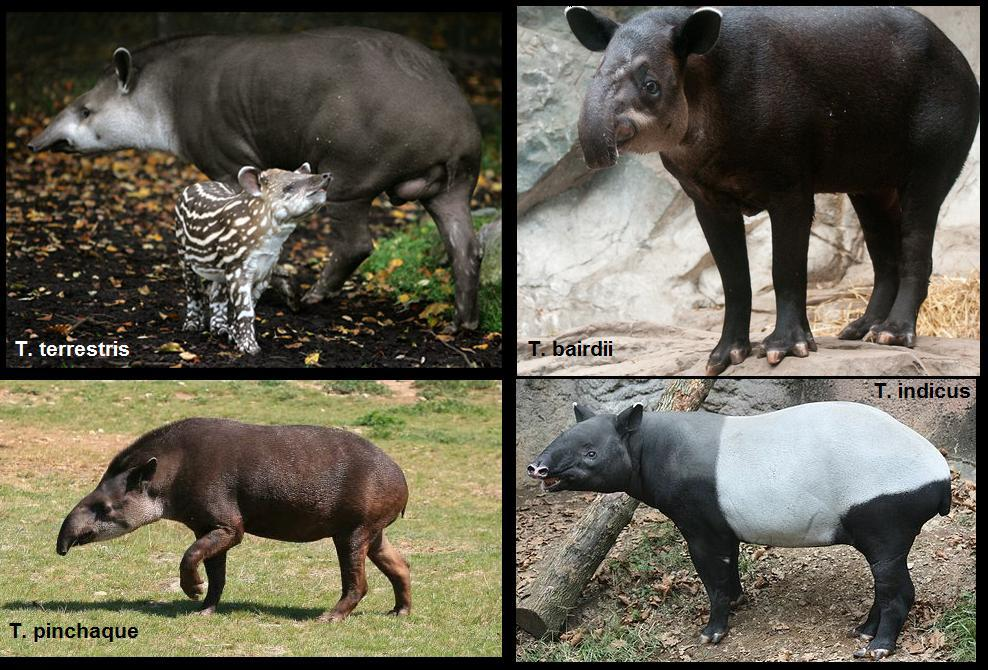Anta: (553, 8, 978, 370), (25, 31, 484, 338), (524, 397, 960, 658), (53, 415, 448, 628), (161, 161, 341, 361)
